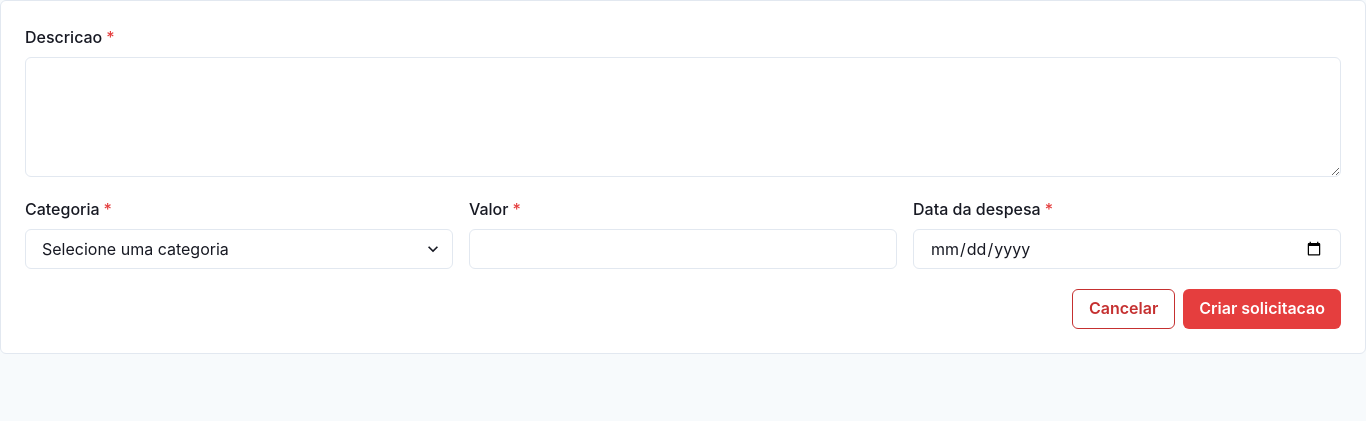
ReimbursementForm › validates required fields
The width and height of the screenshot is (1366, 421).
Click the button "Criar solicitacao": coordinates (1262, 309) [1183,289,1341,329]
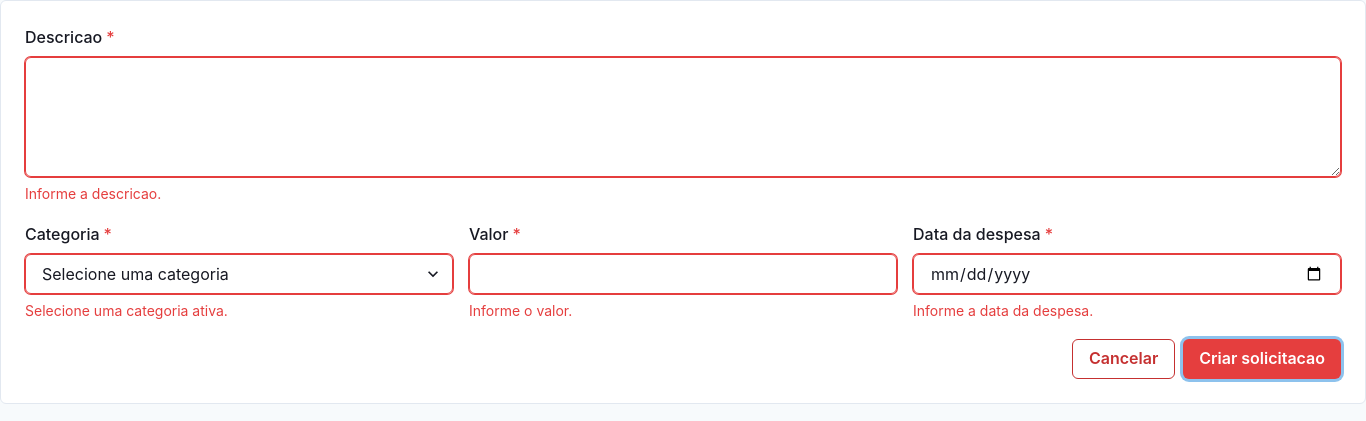
expect the text "Informe a descricao." is shown: met, box [25,185,161,202]
expect the text "Selecione uma categoria ativa." is shown: met, box [25,302,228,319]
expect the text "Informe o valor." is shown: met, box [469,302,572,319]
